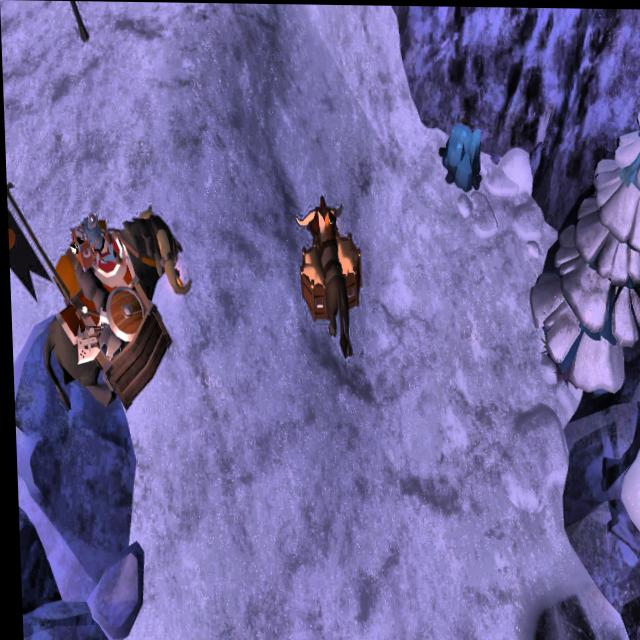rock_t4: (437, 120, 489, 188)
